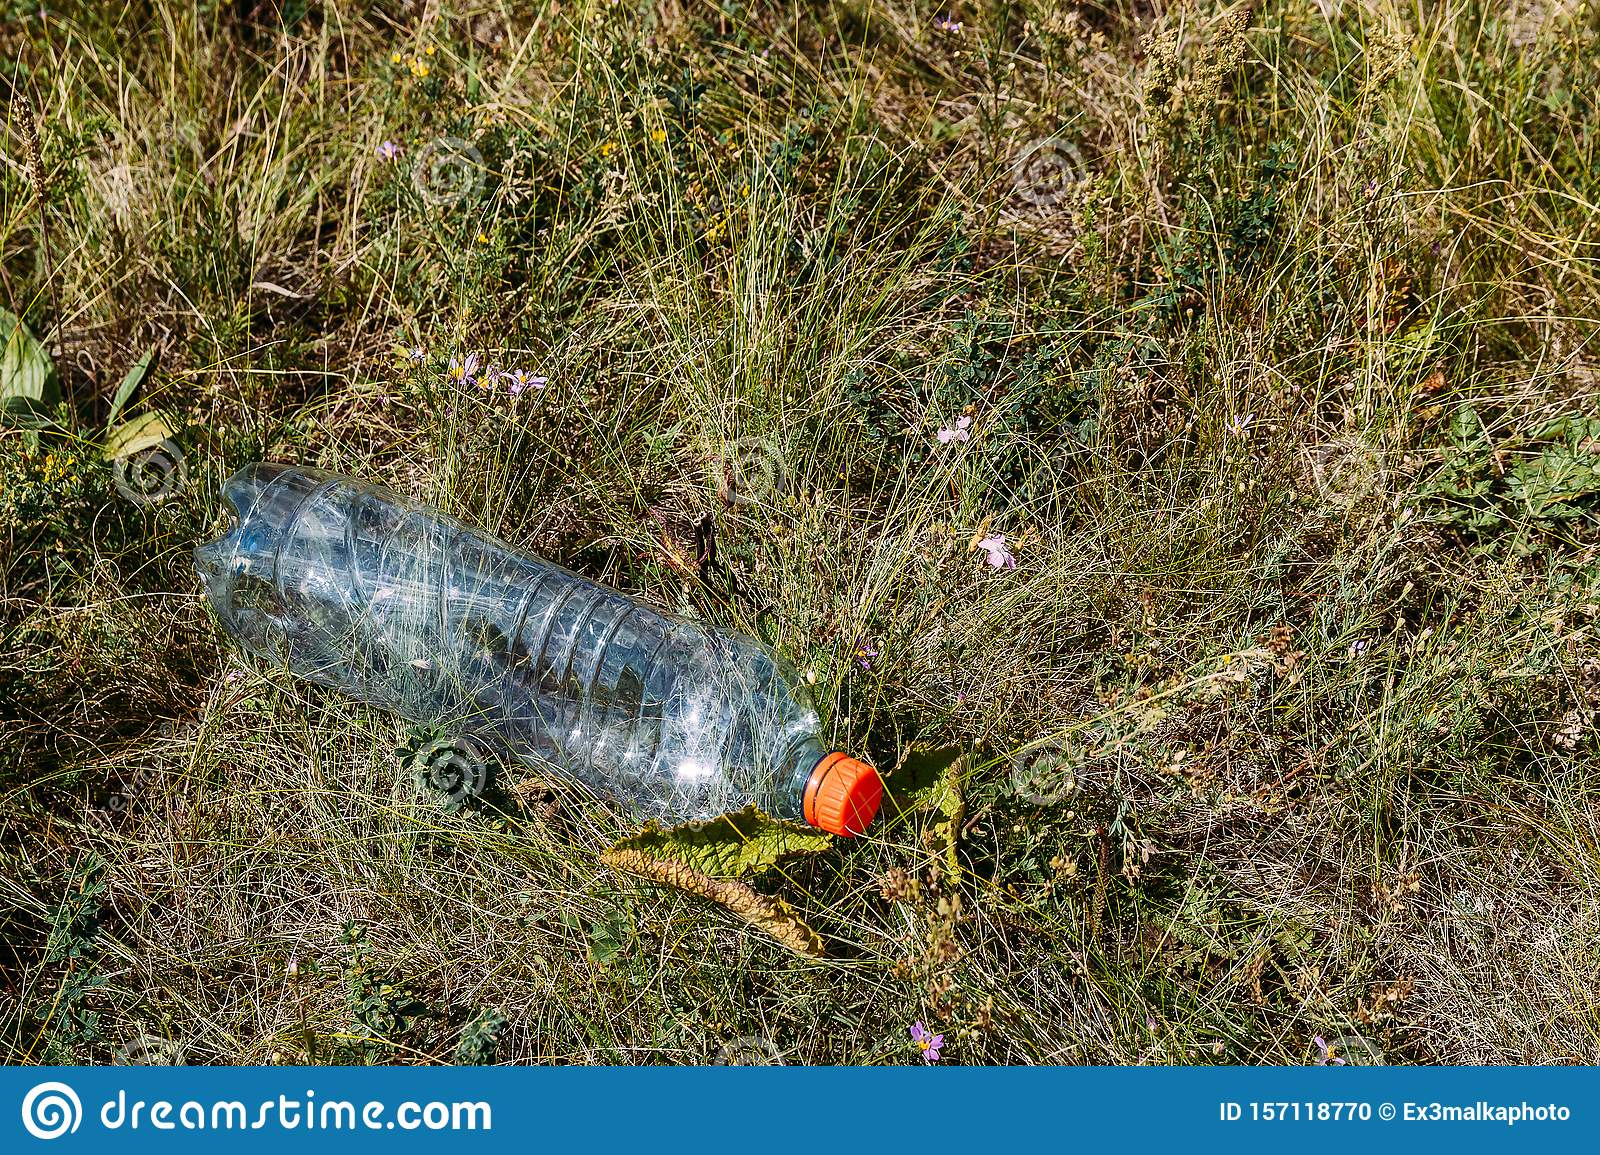plastic_bottle: (193, 447, 899, 854)
